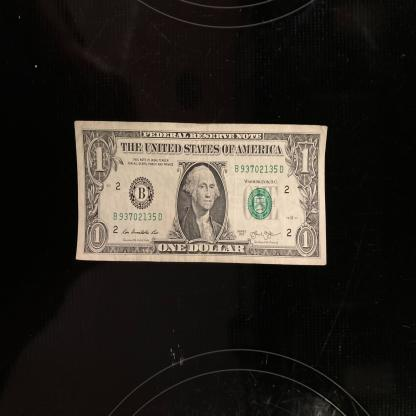one-front: (74, 120, 328, 265)
